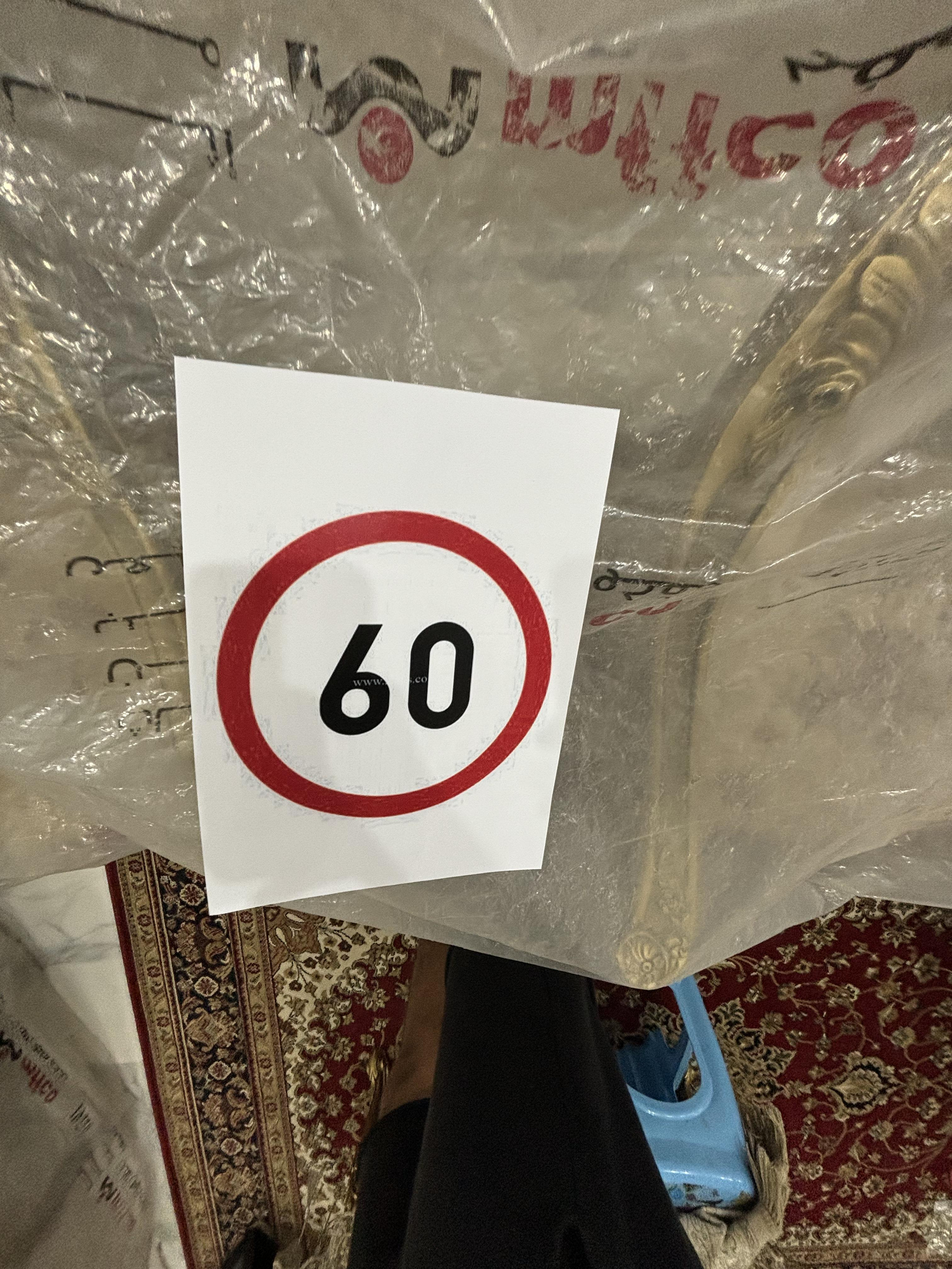60-Speed: (218, 514, 561, 822)
